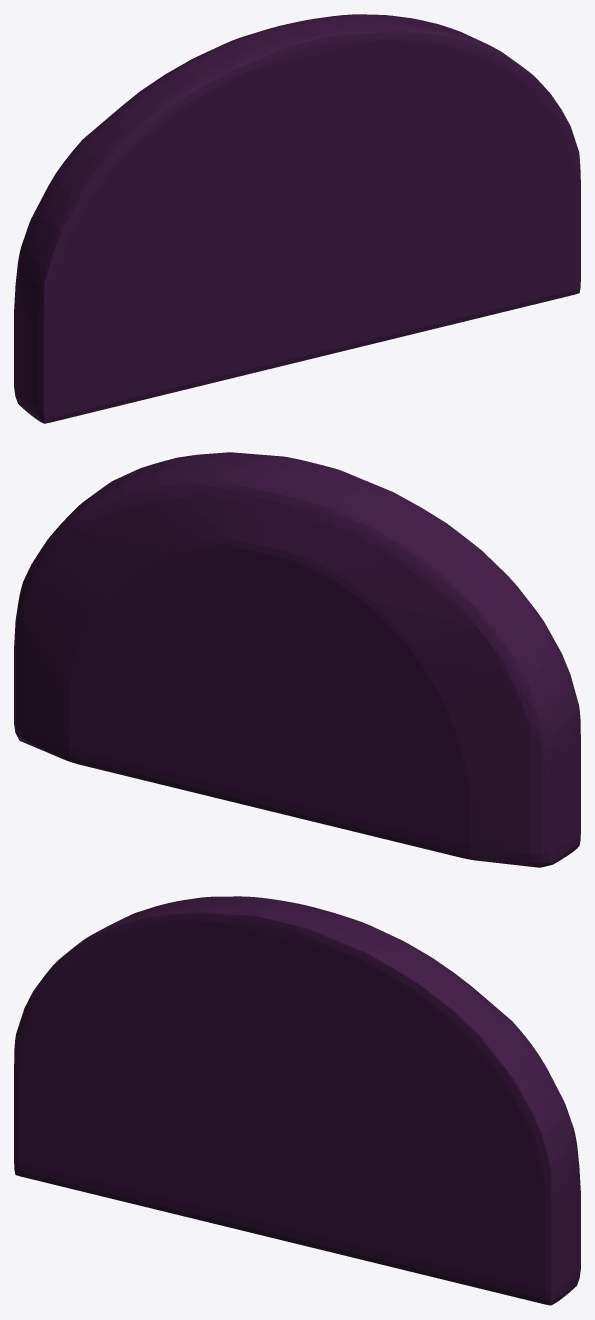
The model's file is pelvis_part_26.obj.
3 renders of one model, top to bottom at view 1: azimuth 30°, elevation 25°; view 2: azimuth 150°, elevation 25°; view 3: azimuth 330°, elevation 25°, orthographic.
Size of the model in its own units: 0.1401 by 0.0791 by 0.0196.
